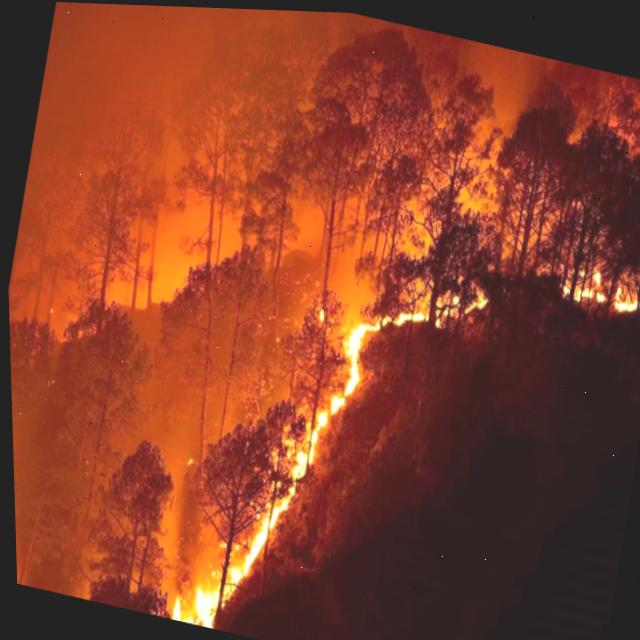fire: (153, 305, 372, 629)
smoke: (7, 2, 311, 563)
